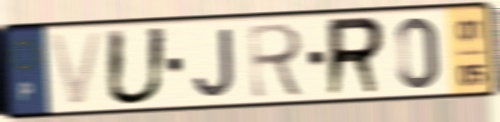0: (393, 15, 440, 92)
J: (190, 25, 238, 100)
R: (323, 13, 388, 100), (246, 20, 308, 102)
U: (102, 25, 172, 109)
V: (45, 28, 109, 111)
